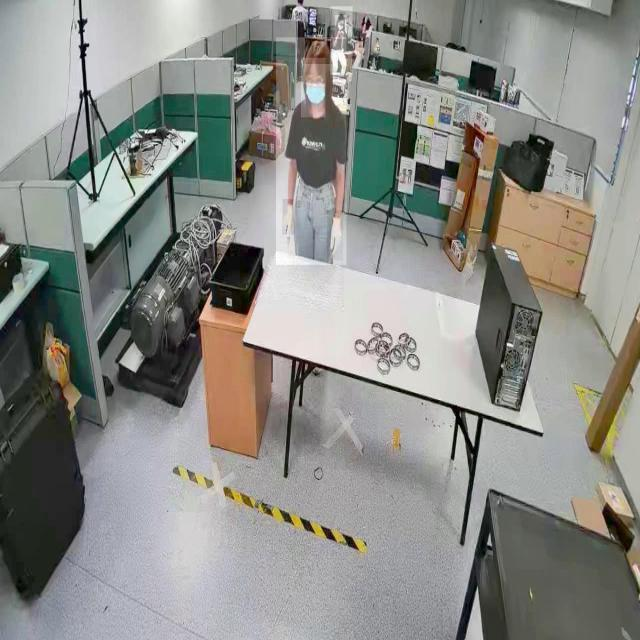face_mask: (300, 58, 326, 118), (334, 15, 346, 39)
hand_glove: (327, 211, 343, 261), (282, 199, 294, 236)
head_nohelmet: (304, 38, 332, 65), (338, 12, 346, 21)
person: (276, 37, 346, 266), (330, 6, 352, 76)
